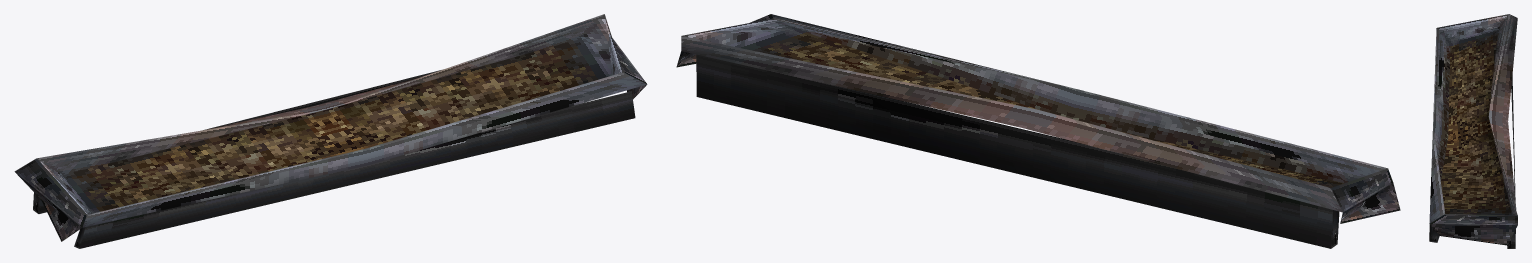
File: Environment - Prop - Feeding Troughs - Damaged - PMTROUGH_d.glb
3 renders of one model, left to right at view 1: azimuth 30°, elevation 25°; view 2: azimuth 150°, elevation 25°; view 3: azimuth 270°, elevation 25°, orthographic. The views are drawn at different scales.
Parts seen in each view (by area): view 1: PMTROUGH_D; view 2: PMTROUGH_D; view 3: PMTROUGH_D.
Part boxes in pixels (box(x1,y1,x2,y2)): PMTROUGH_D: box(14, 14, 647, 248); PMTROUGH_D: box(676, 14, 1400, 248); PMTROUGH_D: box(1429, 14, 1517, 248).
Bounding box in the file's own units: 33.76 × 2.85 × 5.97.
1 material, 1 textured.
